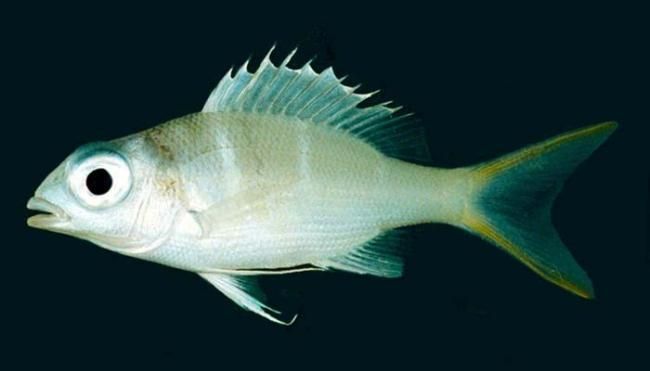fish: (26, 40, 618, 327)
